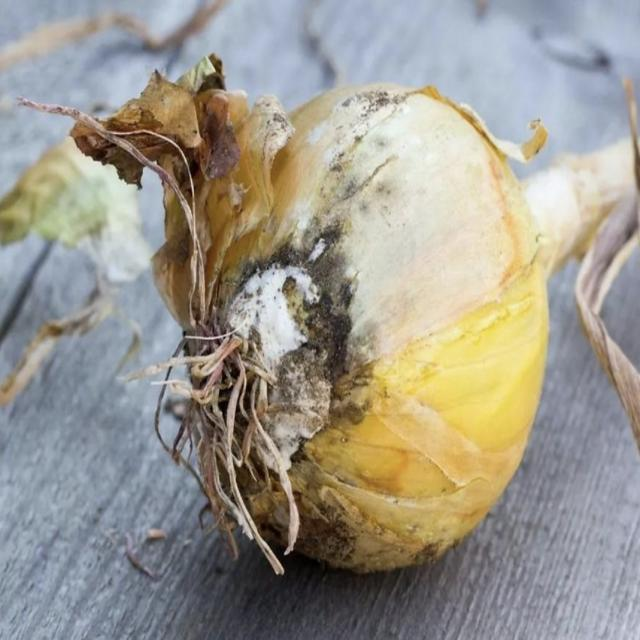mechanical_damage: (99, 56, 635, 573)
